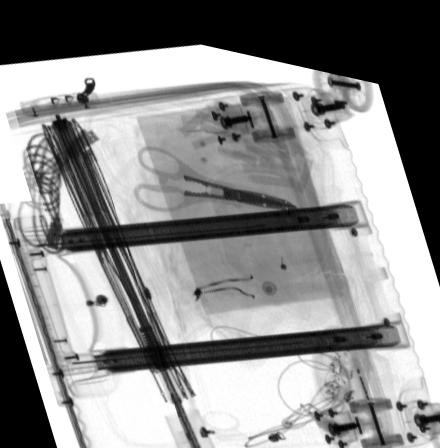Scissors: (132, 137, 300, 204)
